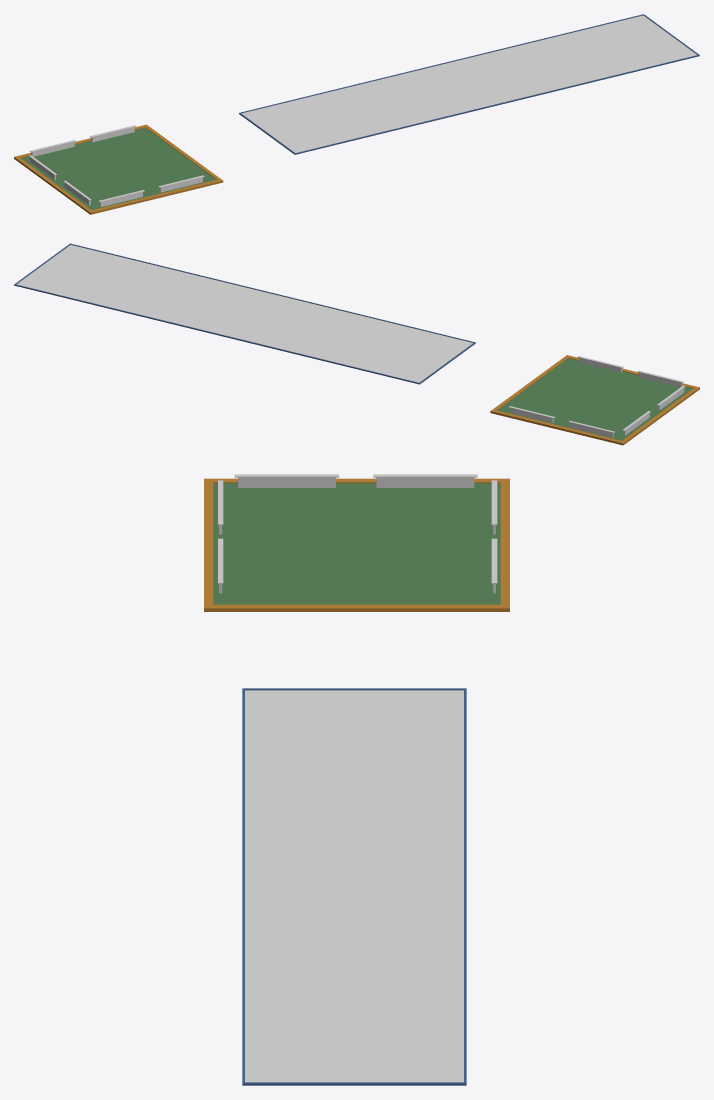
Rendered from Walls_ground.fbx.
3 renders of one model, top to bottom at view 1: azimuth 30°, elevation 25°; view 2: azimuth 150°, elevation 25°; view 3: azimuth 270°, elevation 25°, orthographic. The views are drawn at different scales.
Visible parts, largest first — view 1: pCube25, Park1, pCube14, pCube13, pCube16, pCube15; view 2: pCube25, Park1, pCube14, pCube13, pCube15, pCube16; view 3: pCube25, Park1, pCube18, pCube17.
Boxes of the visible parts, box(x1,y1,x2,y2) form: pCube25: box(239, 14, 699, 154); Park1: box(14, 124, 223, 214); pCube14: box(90, 125, 136, 142); pCube13: box(30, 140, 75, 156); pCube16: box(98, 190, 144, 206); pCube15: box(158, 175, 204, 192); pCube25: box(14, 243, 475, 384); Park1: box(490, 355, 699, 445); pCube14: box(508, 406, 555, 423); pCube13: box(569, 420, 614, 437); pCube15: box(577, 356, 623, 372); pCube16: box(637, 370, 683, 387); pCube25: box(242, 688, 466, 1085); Park1: box(204, 478, 509, 611); pCube18: box(373, 474, 477, 487); pCube17: box(234, 474, 339, 487).
Size of the model in its own units: 13068 by 148 by 2800.
